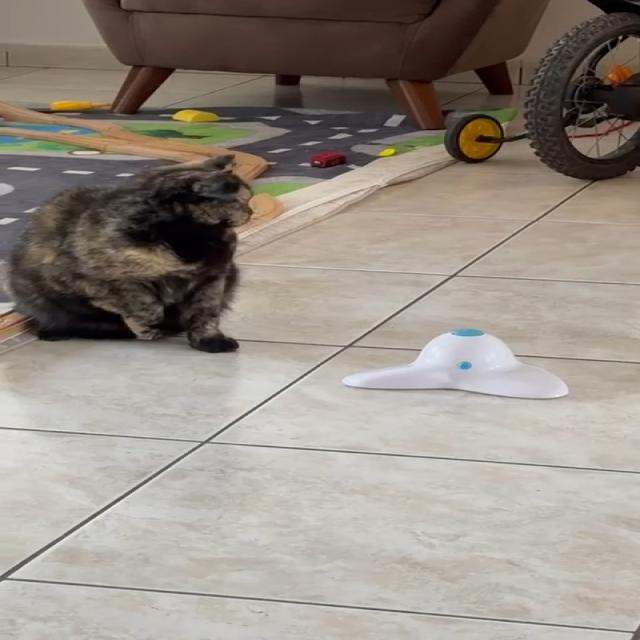authorized: (5, 152, 254, 354)
